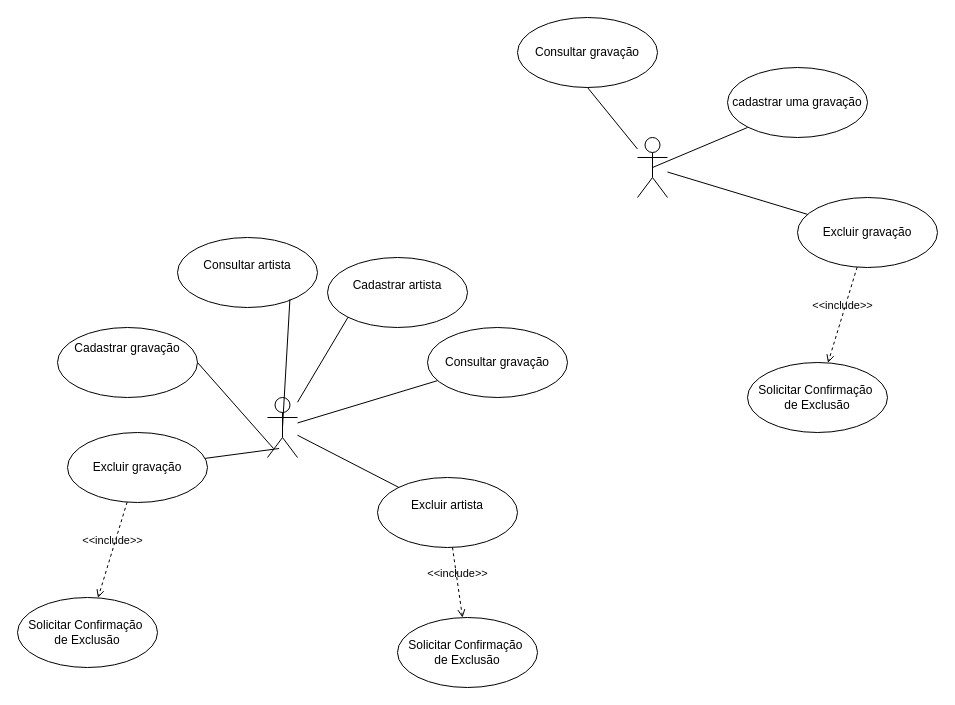
Image size: 955x705. Some labels were removed from this diagram. Each missing label, with the box of its shape:
artista: (636, 136, 668, 198)
funcionário do estudio: (266, 396, 298, 458)
